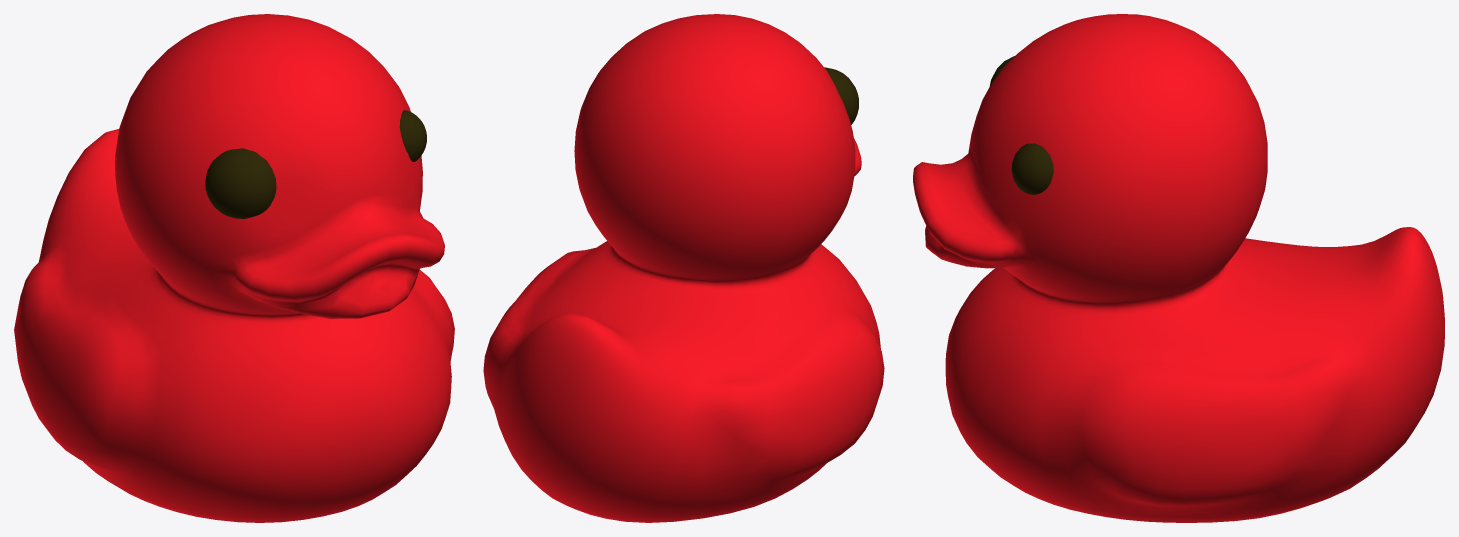
The model's file is bird377.glb.
3 views of the same model, side by side, from view 1: azimuth 30°, elevation 25°; view 2: azimuth 150°, elevation 25°; view 3: azimuth 270°, elevation 25° (orthographic). The views are drawn at different scales.
Bounding box in the file's own units: 1.55 × 1.8 × 1.99.
